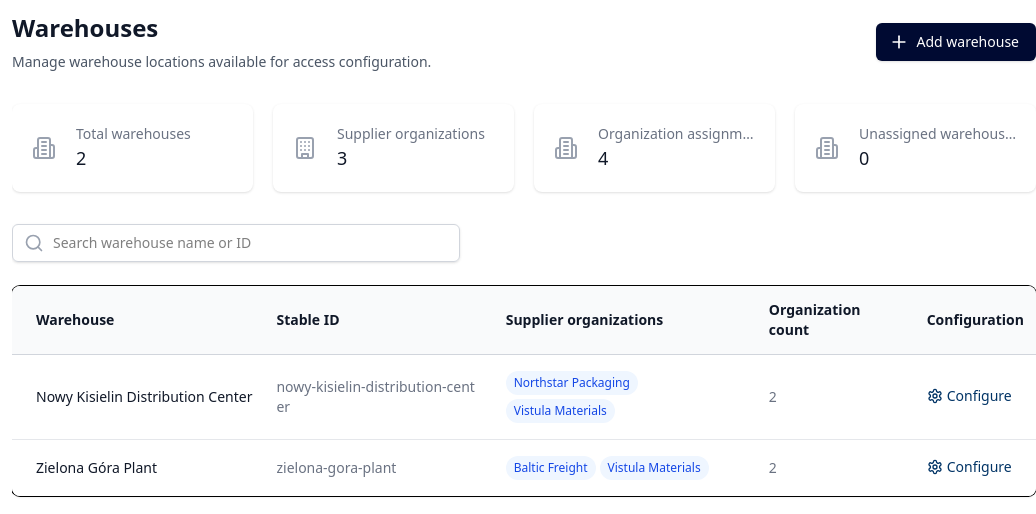
it: WarehousesPage › 9. searches display names case-insensitively;
Type "zIeLoNa" into the field labelled "Search warehouse name or ID".
click(236, 243); type("zIeLoNa")  # box [12, 224, 460, 262]
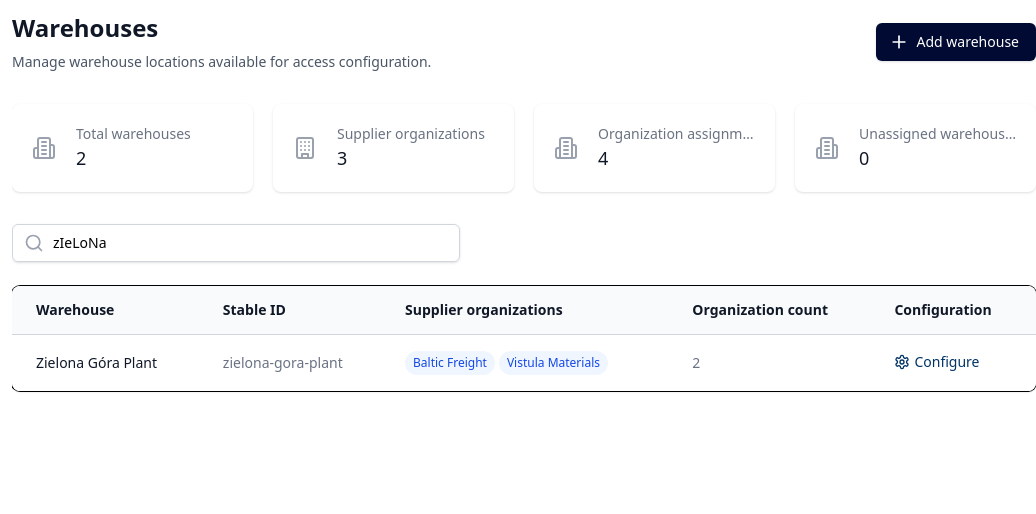
Expected: the text "Zielona Góra Plant" is shown 2 times
Expected: the text "Nowy Kisielin Distribution Center" is gone
